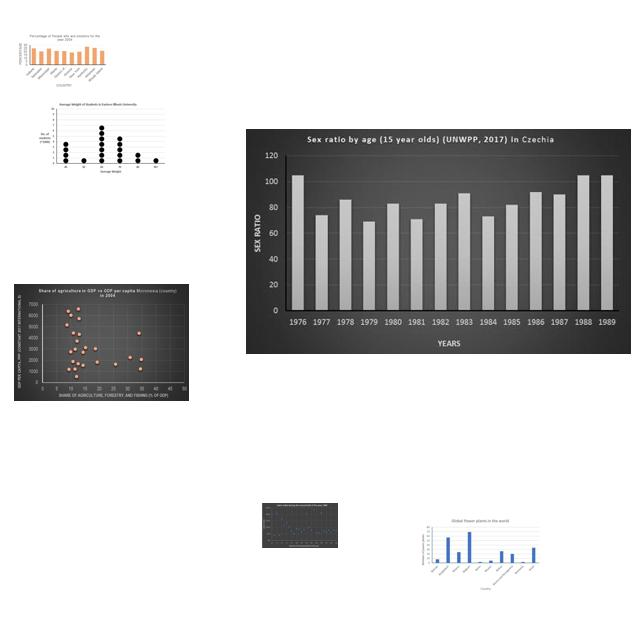Graph: (246, 129, 631, 354), (14, 284, 189, 401), (36, 100, 167, 176), (420, 517, 541, 592), (17, 33, 108, 88), (262, 503, 338, 548)
